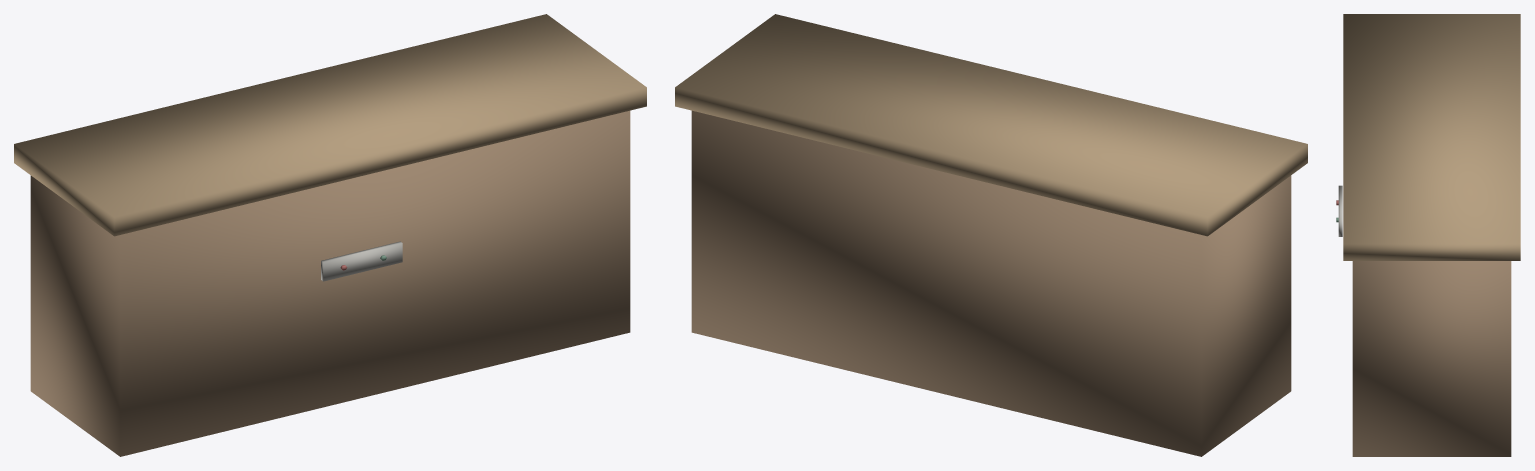
The model's file is funeral_reception_counter__wide.glb.
3 views of the same model, side by side, from view 1: azimuth 30°, elevation 25°; view 2: azimuth 150°, elevation 25°; view 3: azimuth 270°, elevation 25° (orthographic). The views are drawn at different scales.
Visible parts, largest first — view 1: world; view 2: world; view 3: world.
Part boxes in pixels (<box>): world: <box>14,14,646,456</box>; world: <box>675,14,1307,456</box>; world: <box>1336,14,1520,456</box>.
Size of the model in its own units: 2.33 by 1.03 by 0.791.
